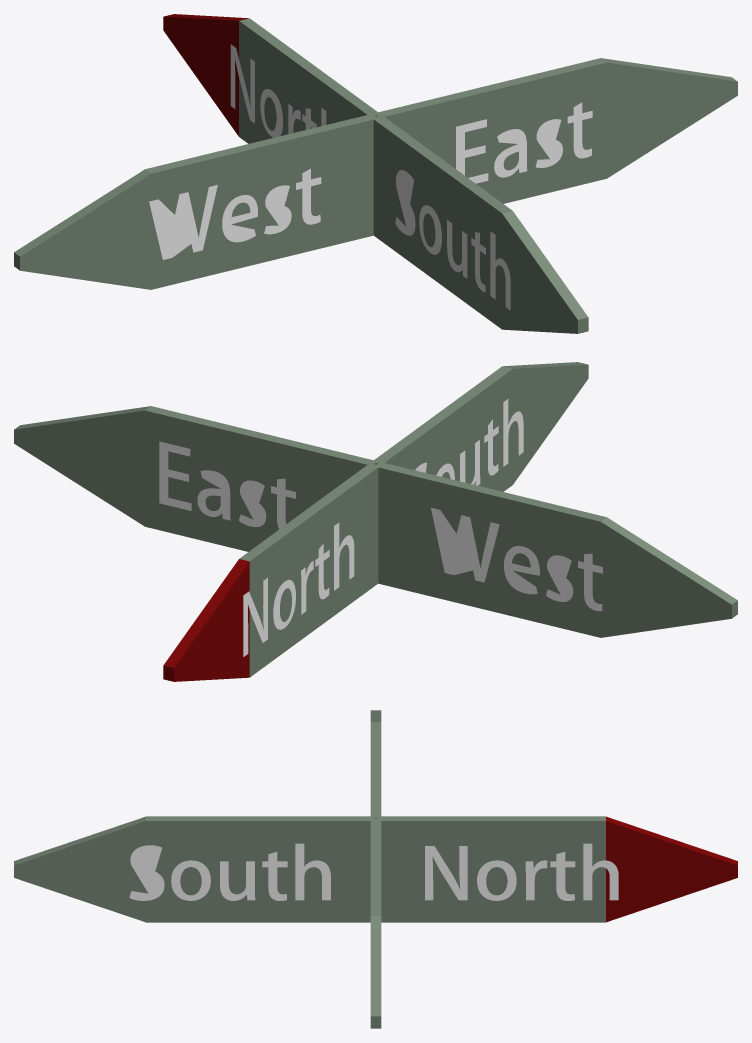
Rendered from NSEW.obj.
The picture shows the model from 3 angles, top to bottom: view 1: azimuth 30°, elevation 25°; view 2: azimuth 150°, elevation 25°; view 3: azimuth 270°, elevation 25°; orthographic projection. The views are drawn at different scales.
Parts seen in each view (by area): view 1: sign, letter, sign_red; view 2: sign, letter, sign_red; view 3: sign, letter, sign_red.
Boxes of the visible parts, x1,y1,x2,y2 form: sign: (14, 18, 737, 333); letter: (149, 44, 592, 310); sign_red: (163, 14, 248, 136); sign: (14, 362, 737, 677); letter: (159, 399, 602, 656); sign_red: (163, 559, 249, 681); sign: (14, 710, 605, 1028); letter: (129, 843, 618, 900); sign_red: (606, 816, 737, 922).
Size of the model in its own units: 11.12 by 1.72 by 11.12.
